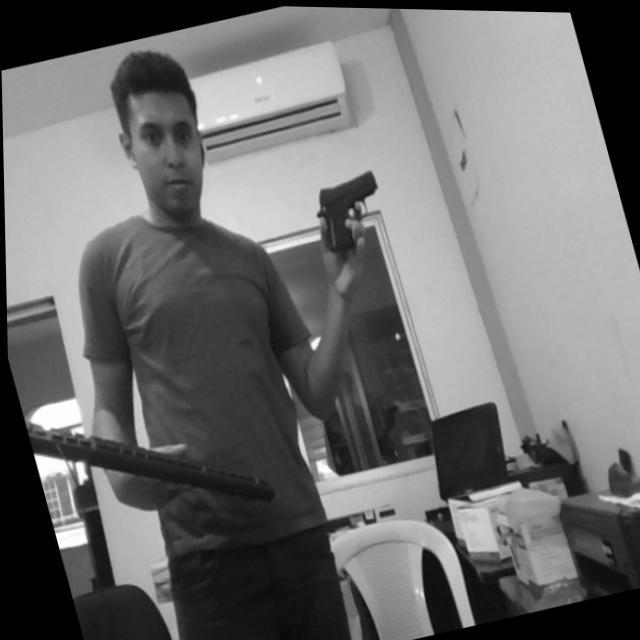weapon: (302, 164, 396, 266)
